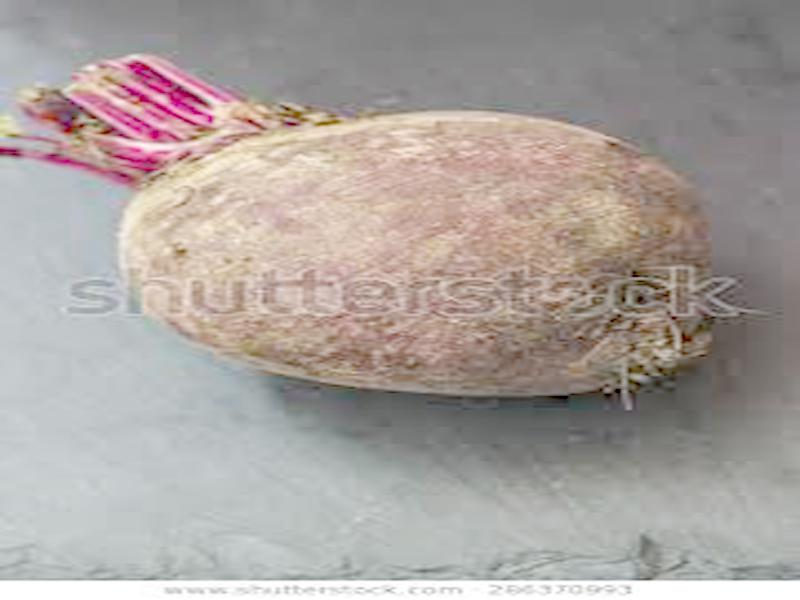Beet: (4, 58, 716, 395)
